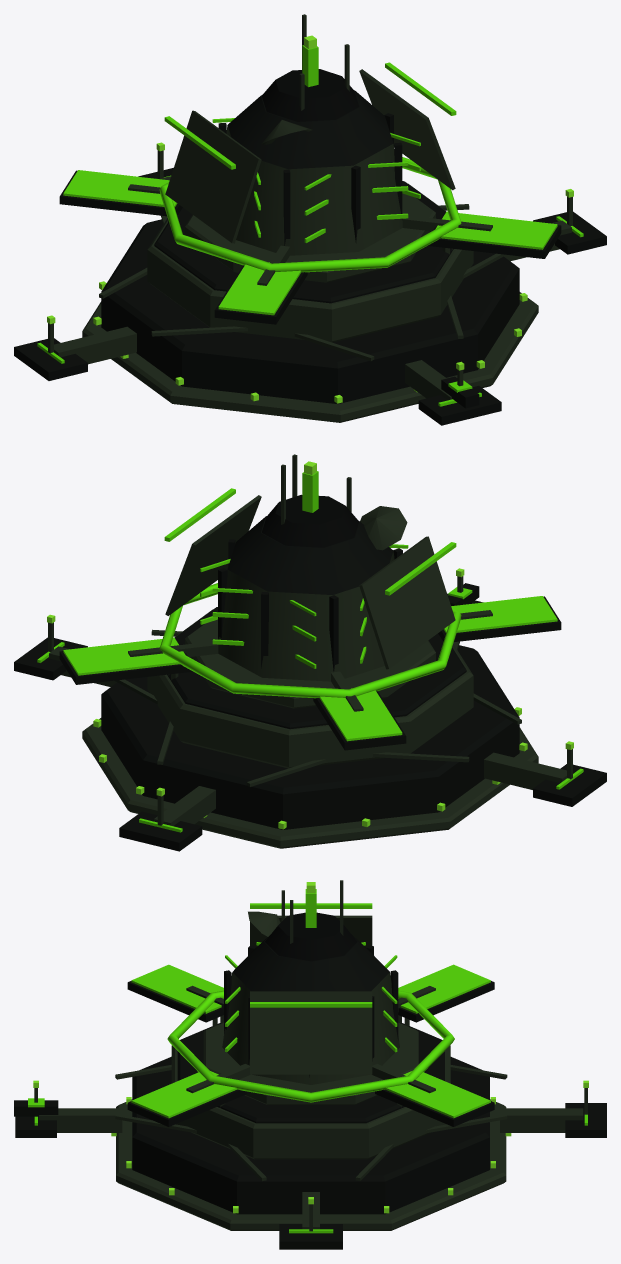
Rendered from Structure.obj.
3 views of the same model, one above another, from view 1: azimuth 30°, elevation 25°; view 2: azimuth 150°, elevation 25°; view 3: azimuth 270°, elevation 25° (orthographic). The views are drawn at different scales.
Parts seen in each view (by area): view 1: structure_hull, structure_core, structure_spine, structure_radiator, structure_skirt, structure_cap, structure_deck2, structure_ring, structure_deck3, structure_control, structure_panel_0, structure_panel_3 (+17 smaller); view 2: structure_hull, structure_core, structure_spine, structure_radiator, structure_skirt, structure_cap, structure_deck2, structure_ring, structure_deck3, structure_control, structure_panel_1, structure_panel_2 (+18 smaller); view 3: structure_hull, structure_radiator, structure_spine, structure_skirt, structure_cap, structure_deck2, structure_ring, structure_deck3, structure_core, structure_control, structure_panel_0, structure_panel_1 (+18 smaller).
Part boxes in pixels (x1,y1,x2,y2): structure_hull: (101, 219, 519, 403); structure_core: (226, 125, 402, 255); structure_spine: (147, 183, 473, 342); structure_radiator: (165, 69, 455, 243); structure_skirt: (82, 292, 538, 422); structure_cap: (227, 90, 393, 169); structure_deck2: (154, 181, 453, 303); structure_ring: (159, 157, 461, 272); structure_deck3: (185, 193, 435, 282); structure_control: (262, 69, 359, 121); structure_panel_0: (435, 211, 557, 249); structure_panel_3: (218, 262, 301, 315); structure_hull: (101, 645, 519, 829); structure_core: (218, 551, 394, 681); structure_spine: (147, 609, 473, 768); structure_radiator: (165, 495, 455, 669); structure_skirt: (82, 718, 538, 848); structure_cap: (227, 516, 393, 594); structure_deck2: (167, 607, 466, 729); structure_ring: (159, 583, 461, 698); structure_deck3: (185, 619, 435, 708); structure_control: (262, 494, 359, 547); structure_panel_1: (63, 637, 185, 675); structure_panel_2: (319, 688, 402, 741); structure_hull: (132, 1056, 489, 1214); structure_radiator: (250, 915, 372, 1074); structure_spine: (171, 1045, 450, 1159); structure_skirt: (116, 1099, 506, 1230); structure_cap: (232, 934, 389, 991); structure_deck2: (177, 1023, 444, 1123); structure_ring: (167, 990, 454, 1102); structure_deck3: (203, 1022, 418, 1104); structure_core: (222, 972, 399, 1084); structure_control: (265, 912, 357, 961); structure_panel_0: (131, 1071, 237, 1118); structure_panel_1: (385, 1071, 490, 1118).
Bounding box in the file's own units: 502 × 256 × 504.
